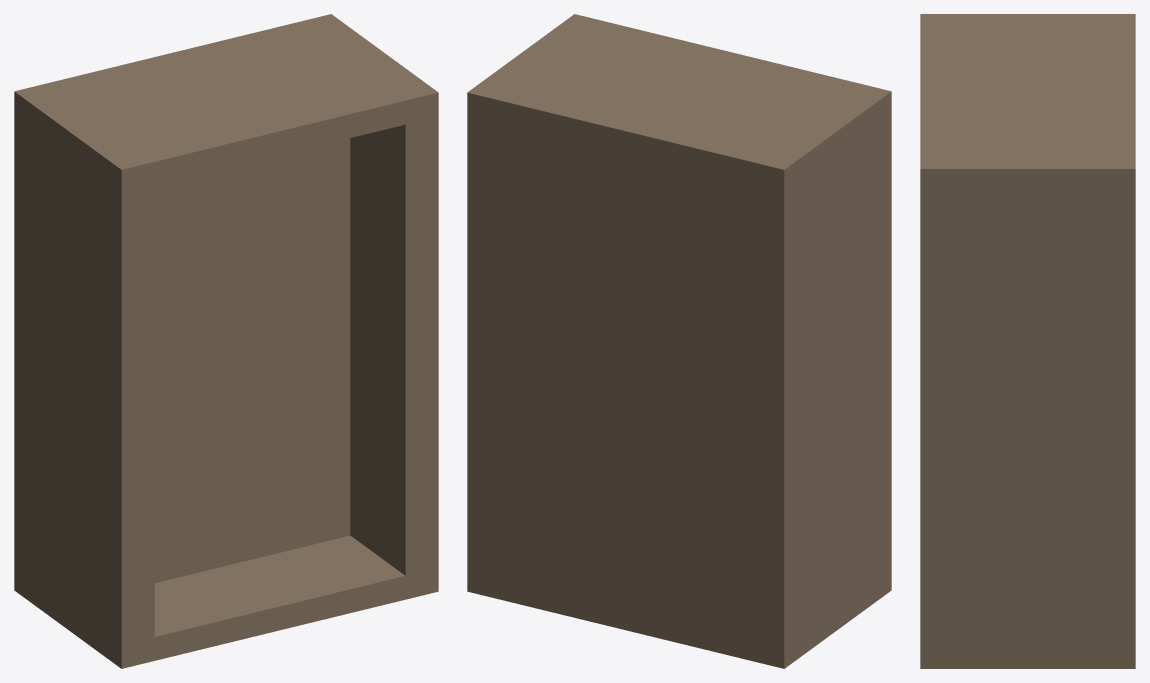
The model's file is shelf_test.fbx.
The picture shows the model from 3 angles, left to right: view 1: azimuth 30°, elevation 25°; view 2: azimuth 150°, elevation 25°; view 3: azimuth 270°, elevation 25°; orthographic projection.
Visible parts, largest first — view 1: pCube2; view 2: pCube2; view 3: pCube2.
Boxes of the visible parts, bbox=[...] form: pCube2: bbox=[14, 14, 438, 668]; pCube2: bbox=[467, 14, 891, 668]; pCube2: bbox=[920, 14, 1135, 668].
Bounding box in the file's own units: 5.24 × 7.88 × 3.07.
